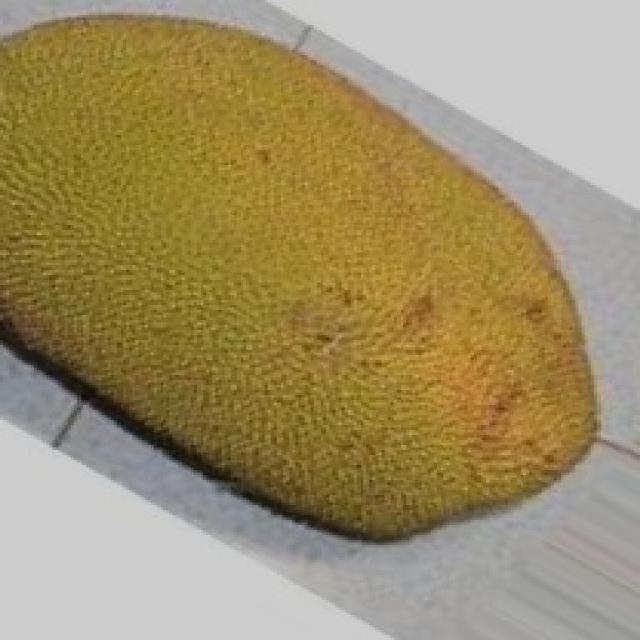Fruit: (0, 0, 406, 405), (255, 200, 637, 588)
